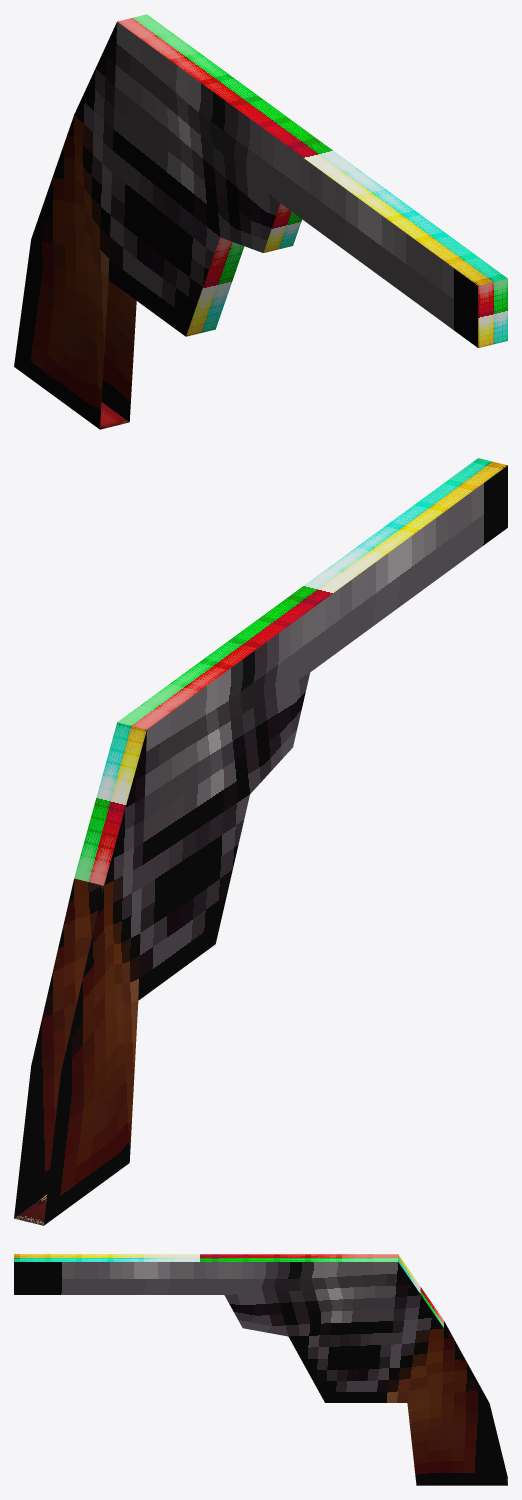
3 renders of one model, top to bottom at view 1: azimuth 30°, elevation 25°; view 2: azimuth 150°, elevation 25°; view 3: azimuth 270°, elevation 25°, orthographic. The views are drawn at different scales.
Parts seen in each view (by area): view 1: prim121-Line56; view 2: prim121-Line56; view 3: prim121-Line56.
Boxes of the visible parts, left/top/right/bottom form: prim121-Line56: left=14, top=14, right=507, bottom=429; prim121-Line56: left=14, top=458, right=507, bottom=1225; prim121-Line56: left=14, top=1254, right=507, bottom=1485.
Bounding box in the file's own units: 2 × 27 × 54.
Materials: 3 (3 with a texture image).
